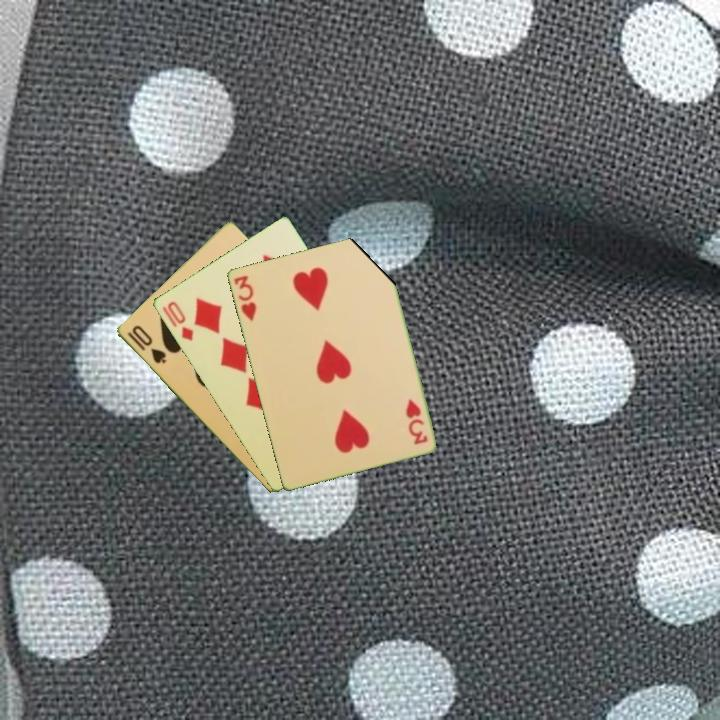10d: (158, 298, 196, 344)
10s: (124, 321, 169, 366)
3h: (230, 272, 259, 324), (402, 395, 430, 447)
